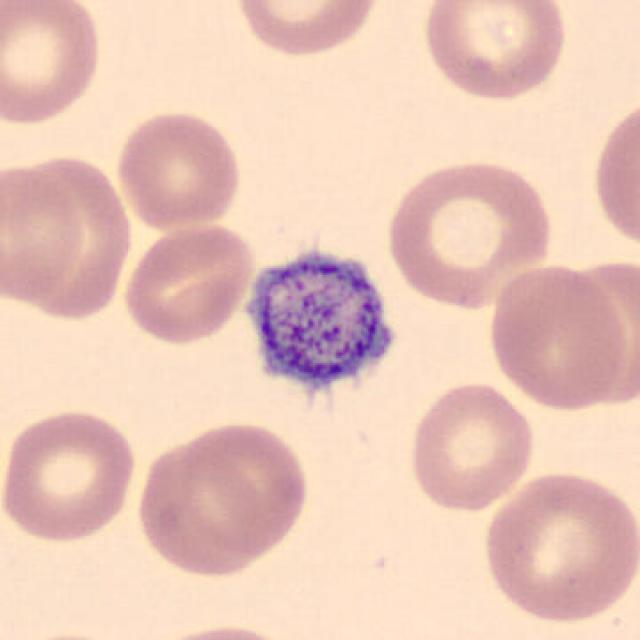Lymphocyte: (233, 235, 407, 416)
RBC: (130, 418, 314, 578), (381, 153, 558, 312), (478, 465, 638, 626), (483, 261, 633, 412), (0, 403, 140, 546), (404, 377, 538, 515), (119, 219, 258, 347), (31, 151, 130, 323), (112, 106, 245, 233), (418, 0, 572, 104), (0, 0, 107, 129), (0, 160, 89, 307), (229, 0, 386, 60), (588, 90, 640, 259), (142, 620, 309, 640), (5, 627, 149, 640)
